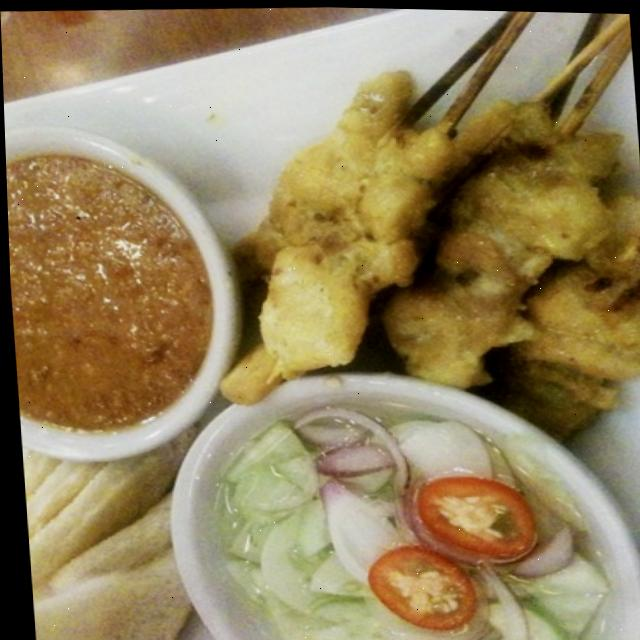牛肉菜式: (12, 28, 640, 639)
